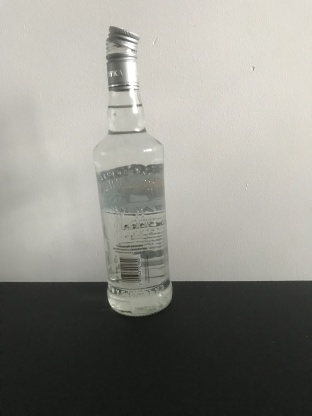nakretka: (104, 23, 141, 91)
